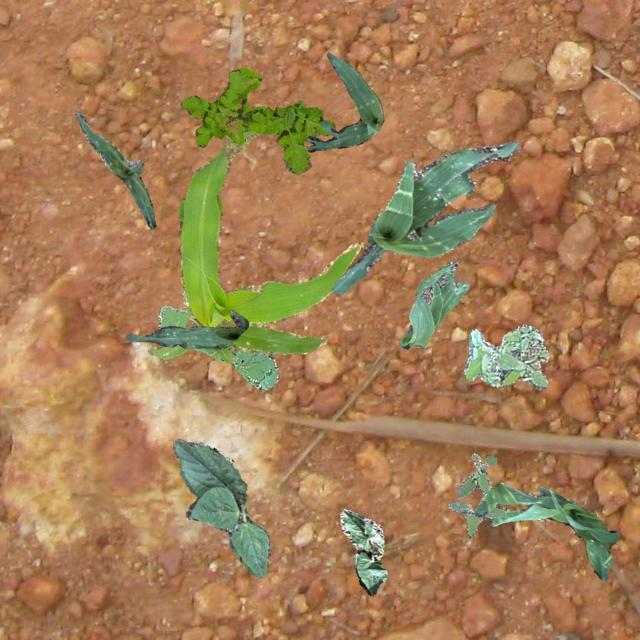crop: (146, 130, 360, 362), (330, 140, 518, 294), (474, 482, 618, 580), (172, 438, 268, 576), (74, 110, 154, 228), (306, 51, 382, 150), (398, 258, 468, 348), (125, 310, 248, 348), (338, 508, 386, 594)
weed: (180, 66, 334, 174), (158, 291, 278, 388), (463, 324, 548, 388), (448, 452, 508, 536)
